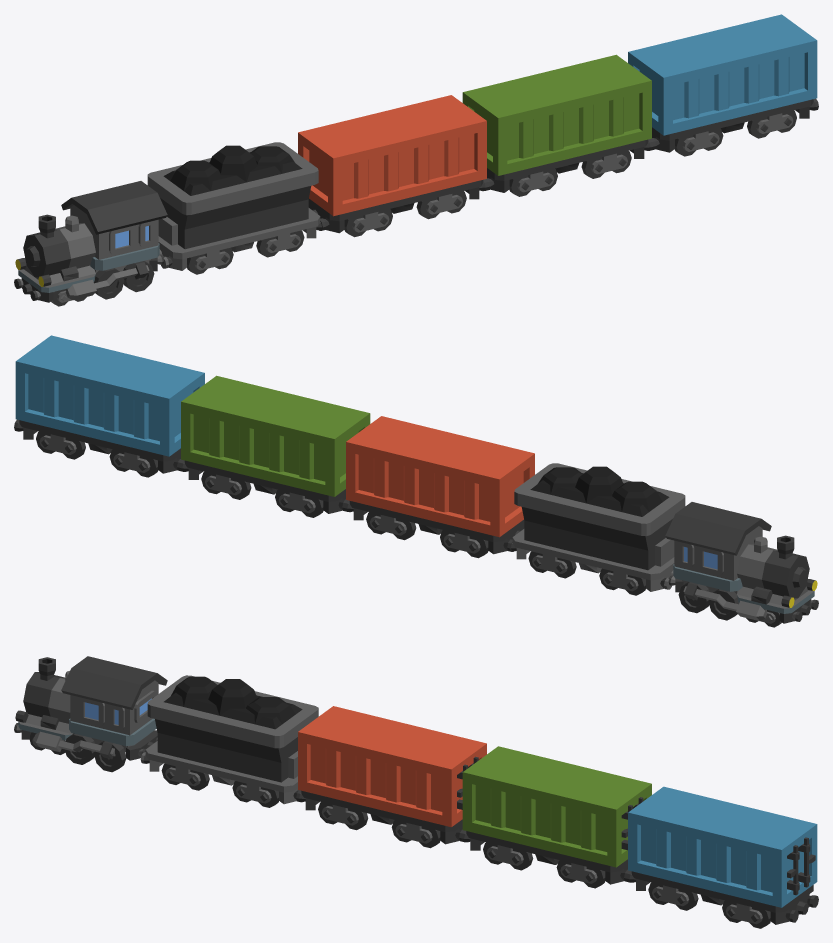
File: train.fbx
The picture shows the model from 3 angles, top to bottom: view 1: azimuth 30°, elevation 25°; view 2: azimuth 150°, elevation 25°; view 3: azimuth 330°, elevation 25°; orthographic projection.
Parts seen in each view (by area): view 1: train; view 2: train; view 3: train.
Part boxes in pixels (x1,y1,x2,y2): train: (14, 14, 818, 306); train: (14, 335, 818, 627); train: (14, 656, 818, 928).
Size of the model in its own units: 873 by 109 by 79.65.
